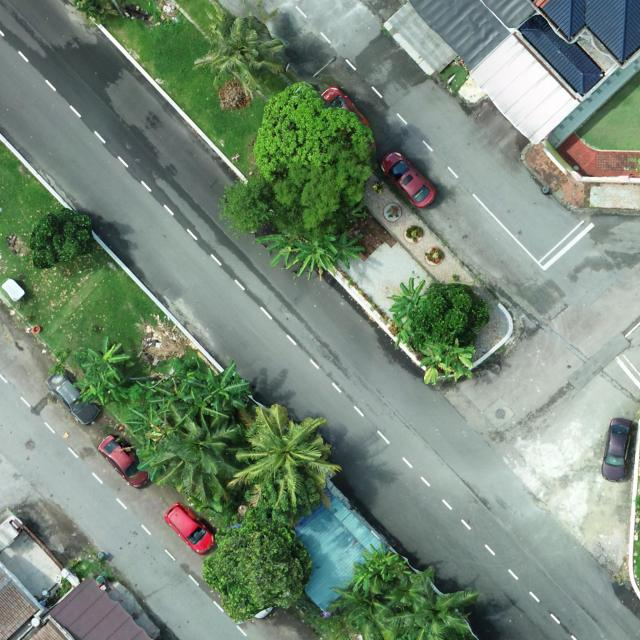Tree: (202, 508, 312, 624), (227, 404, 342, 509), (254, 80, 376, 177), (150, 413, 250, 504), (272, 143, 372, 230), (381, 566, 481, 640), (325, 574, 411, 640), (411, 282, 491, 350), (29, 207, 94, 271), (216, 175, 278, 235), (186, 359, 252, 413), (418, 337, 475, 386), (279, 234, 336, 282), (172, 385, 230, 428), (80, 336, 130, 382), (255, 230, 314, 268), (126, 403, 170, 450), (362, 541, 408, 581), (73, 369, 117, 405), (388, 279, 429, 315), (329, 231, 365, 270), (351, 561, 389, 597), (389, 313, 415, 350)
